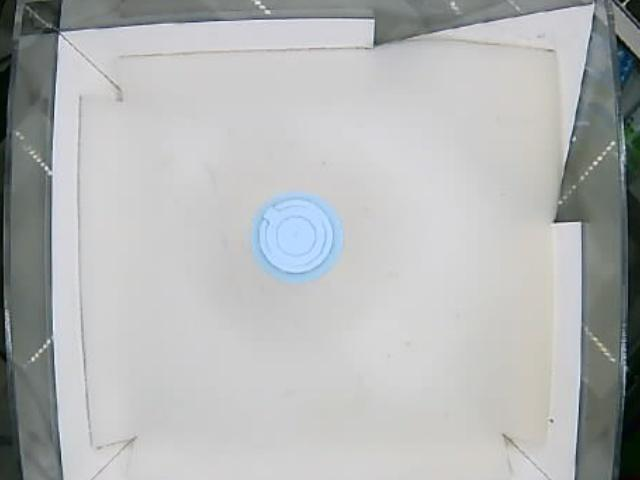Cup: (252, 195, 343, 280)
